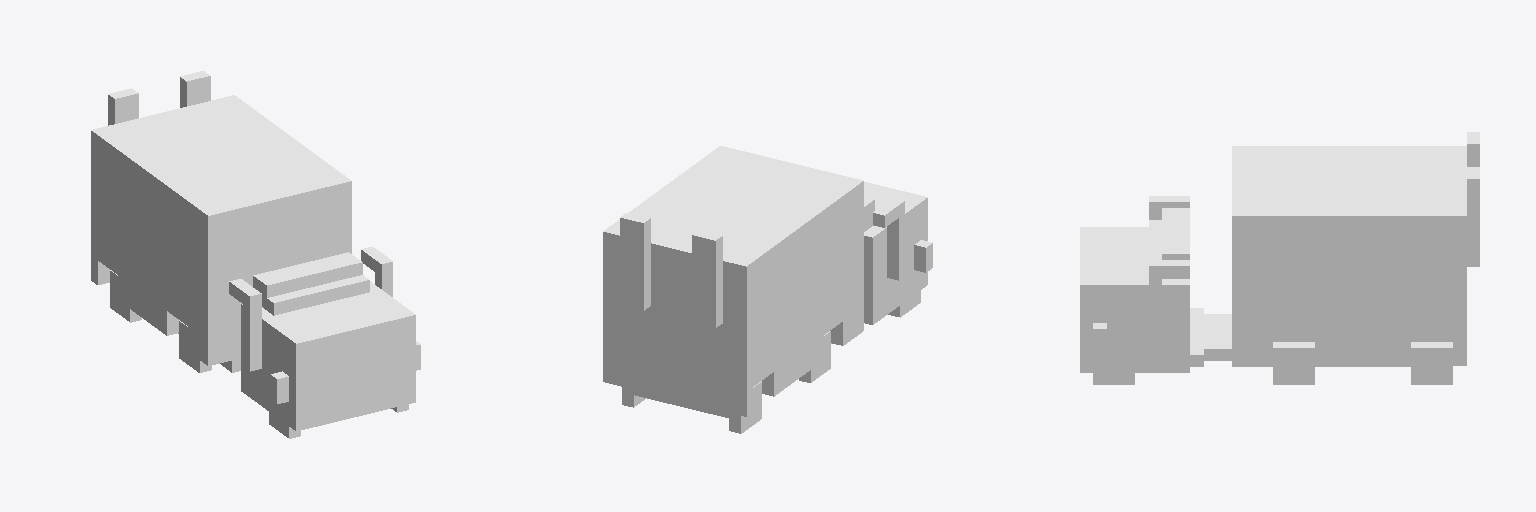
Rendered from Gas_Truck.obj.
3 views of the same model, side by side, from view 1: azimuth 30°, elevation 25°; view 2: azimuth 150°, elevation 25°; view 3: azimuth 270°, elevation 25° (orthographic).
Visible parts, largest first — view 1: object 1; view 2: object 1; view 3: object 1.
Boxes of the visible parts, x1,y1,x2,y2 form: object 1: [91, 71, 420, 438]; object 1: [603, 146, 932, 433]; object 1: [1080, 132, 1479, 384].
Size of the model in its own units: 1.2 by 1.6 by 2.9.